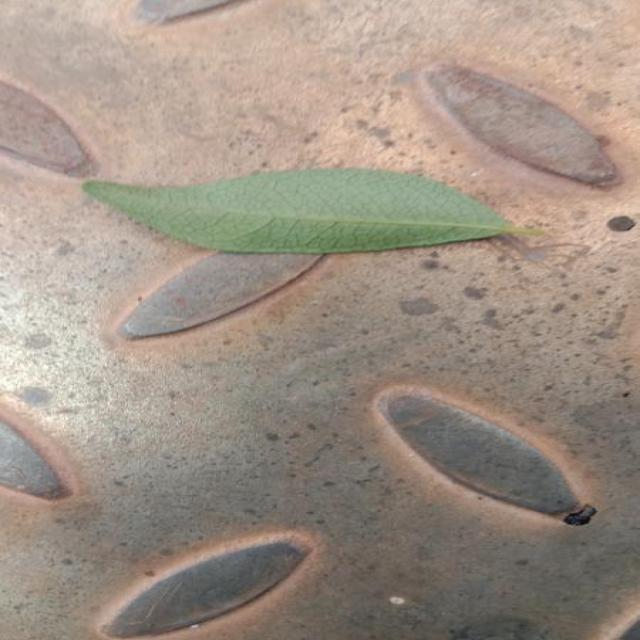curry: (83, 170, 522, 253)
